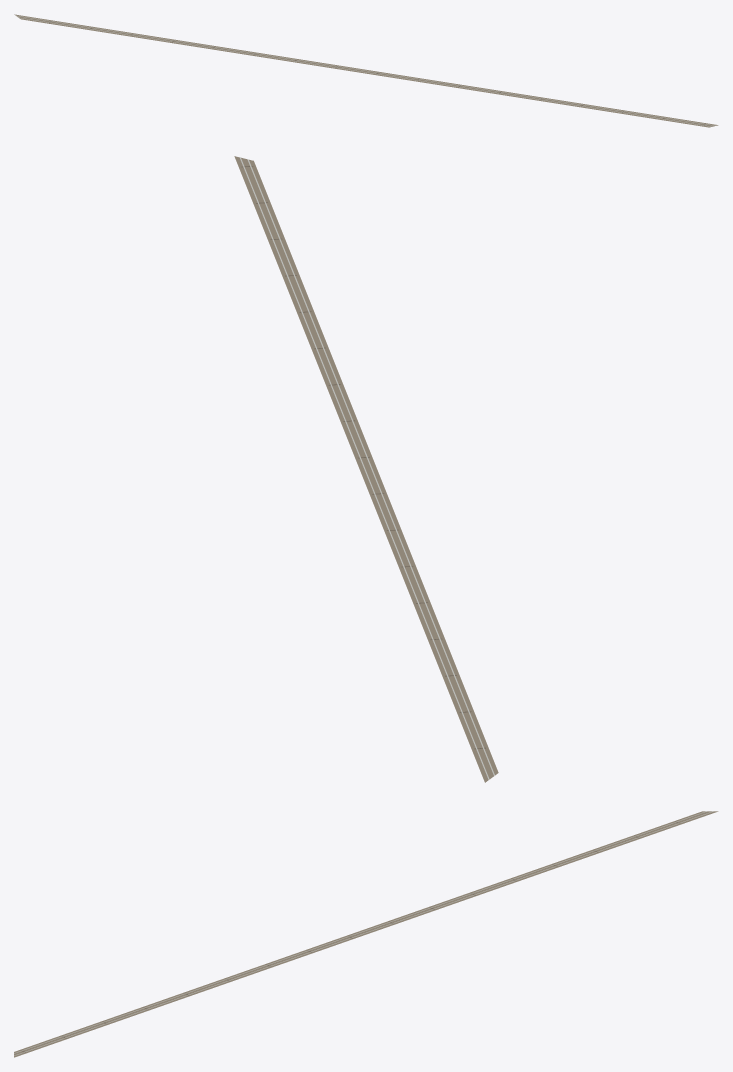
The picture shows the model from 3 angles, top to bottom: view 1: azimuth 30°, elevation 25°; view 2: azimuth 150°, elevation 25°; view 3: azimuth 270°, elevation 25°; orthographic projection. The views are drawn at different scales.
Visible parts, largest first — view 1: rail; view 2: rail; view 3: rail.
Boxes of the visible parts, bbox=[...] form: rail: bbox=[14, 14, 718, 127]; rail: bbox=[234, 156, 498, 782]; rail: bbox=[14, 811, 718, 1057].
Bounding box in the file's own units: 198 × 0.04 × 239.
